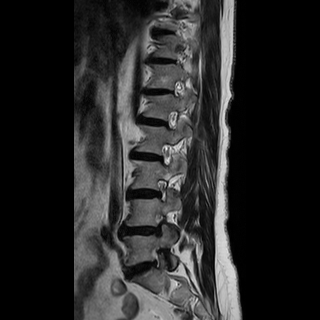RFS0: (151, 139, 175, 170), (149, 174, 171, 206), (158, 104, 180, 135)
